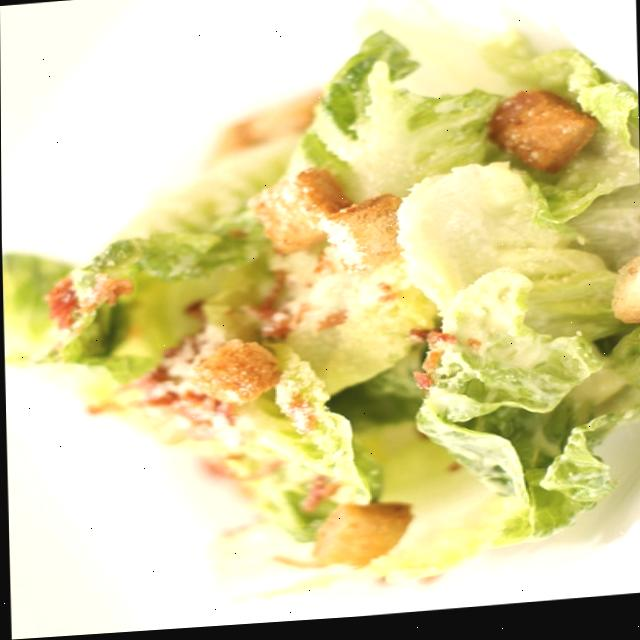蔬菜料理: (0, 0, 640, 583)
